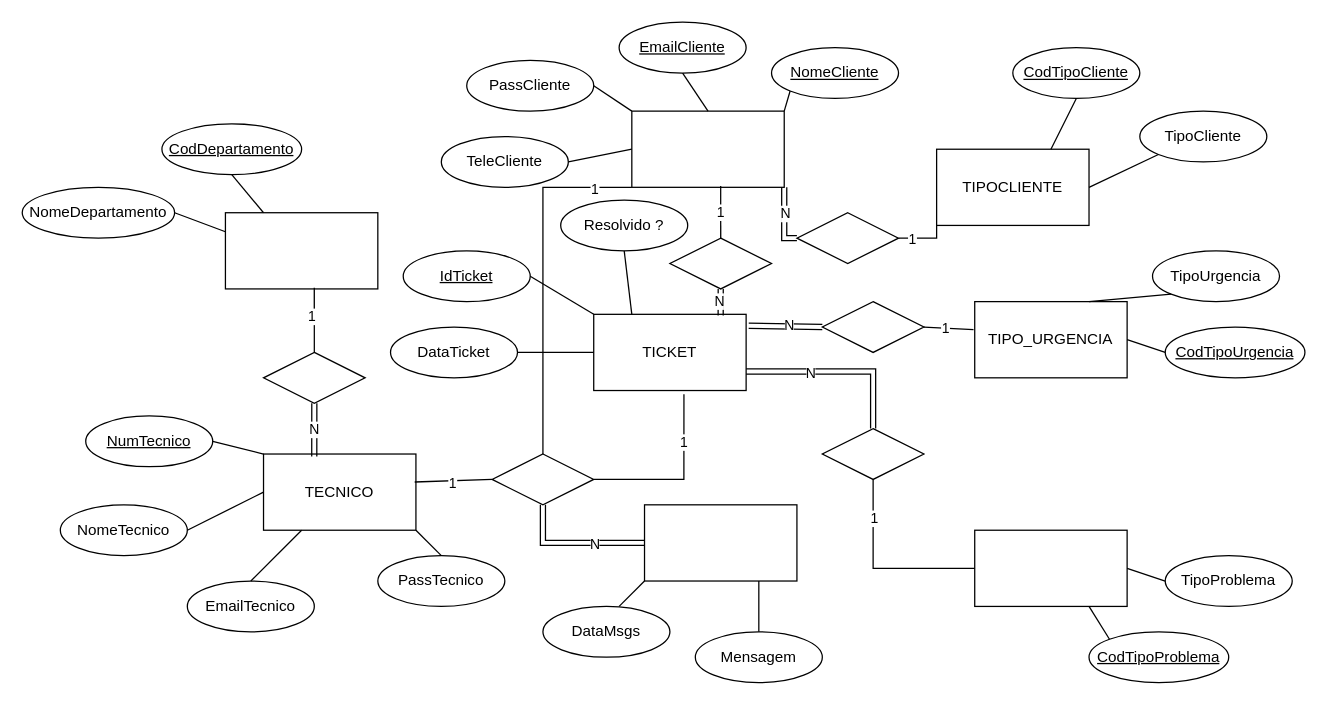
The diagram is 1327 pixels wide and 705 high, and some of its shapes have lost their labels. Each missing label, with the centre of its shape:
CLIENTE: [707,148]
DEPARTAMENTO: [301,250]
MSGS: [720,542]
R1: [313,377]
R2: [847,237]
R3: [720,263]
R4: [872,326]
R5: [872,453]
R6: [542,479]
TIPO_PROBLEMA: [1050,567]
